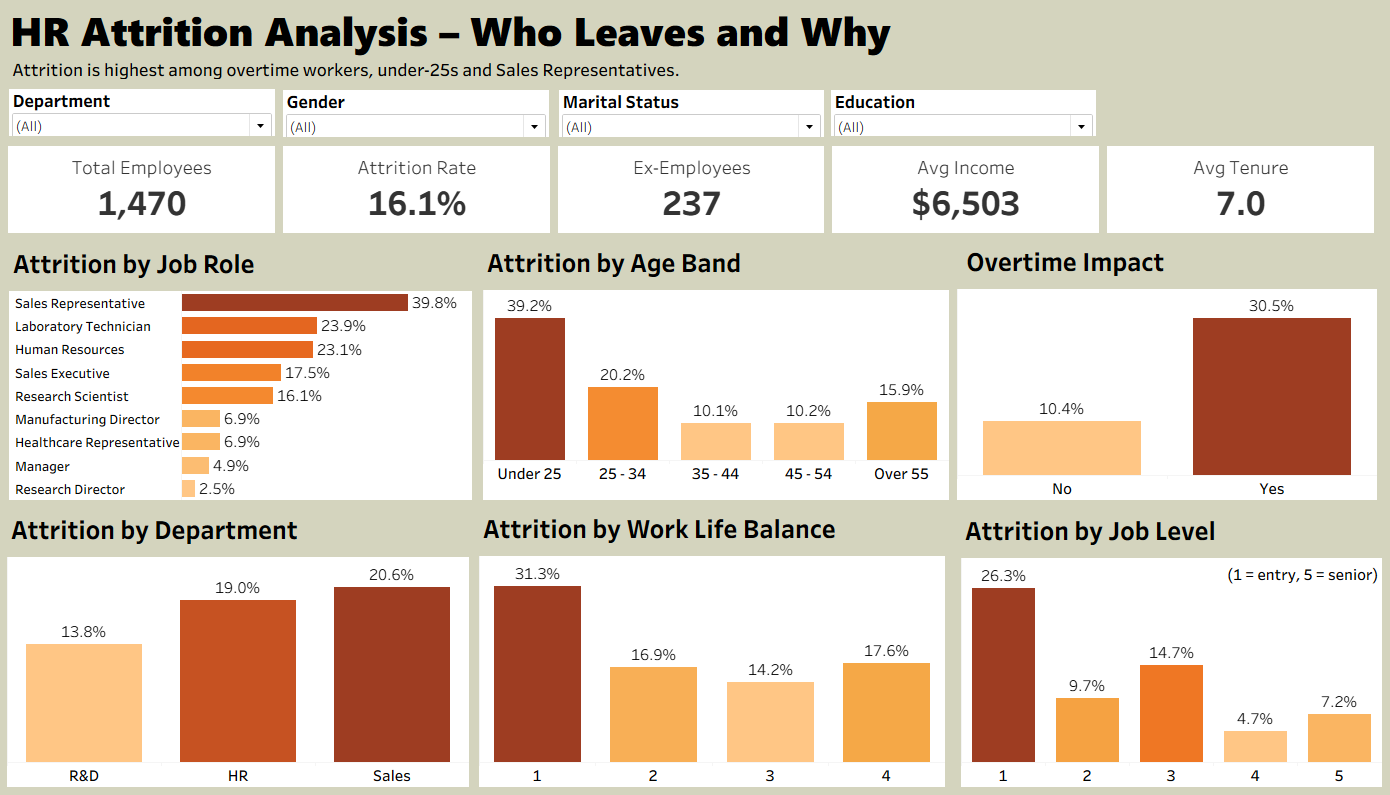

The dashboard page shown, as its layout file describes it:
{"tool":"tableau","page":{"name":"Dashboard 1","canvas":[1400,800],"ordinal":0},"visuals":[{"type":"text","box":[14,6,888,55]},{"type":"text","box":[16,64,736,19]},{"type":"filter","title":"Attrition by Job Role","param":"[federated.171tspu0vqxsfl1d037kr16tp0a4].[none:Department:nk]","box":[16,93.2,266,47.1]},{"type":"filter","title":"Attrition by Job Role","param":"[federated.171tspu0vqxsfl1d037kr16tp0a4].[none:Gender:nk]","box":[290,94.1,266,47.1]},{"type":"filter","title":"Attrition by Job Role","param":"[federated.171tspu0vqxsfl1d037kr16tp0a4].[none:Marital Status:nk]","box":[566,94.1,265,47.1]},{"type":"filter","title":"Attrition by Job Role","param":"[federated.171tspu0vqxsfl1d037kr16tp0a4].[none:Education:nk]","box":[838,94.1,265,46.1]},{"type":"worksheet","title":"kpi 1","mark":"Automatic","box":[11,145.9,274.8,95.1]},{"type":"worksheet","title":"kpi 2","mark":"Automatic","box":[285.8,145.9,274.8,95.1]},{"type":"worksheet","title":"kpi 3","mark":"Automatic","box":[560.6,145.9,274.8,95.1]},{"type":"worksheet","title":"kpi 4","mark":"Automatic","box":[835.4,145.9,274.8,95.1]},{"type":"worksheet","title":"kpi 5","mark":"Automatic","box":[1110.2,145.9,274.8,95.1]},{"type":"worksheet","title":" Overtime Impact ","mark":"Bar","rows":["Calculation_1405507103719424"],"cols":["Over Time"],"box":[964,243.8,420,259.8]},{"type":"worksheet","title":"Attrition by Age Band ","mark":"Bar","rows":["Calculation_1405507103719424"],"cols":["CF_age band"],"box":[490,244.7,466,258.8]},{"type":"worksheet","title":"Attrition by Job Role","mark":"Bar","rows":["Job Role"],"cols":["Calculation_1405507103719424"],"box":[16,245.6,463,257.9]},{"type":"worksheet","title":"Attrition by Work Life Balance","mark":"Bar","rows":["Calculation_1405507103719424"],"cols":["Work Life Balance"],"box":[486,511,466,280]},{"type":"worksheet","title":"Attrition by Department","mark":"Bar","rows":["Calculation_1405507103719424"],"cols":["Department"],"box":[14,512,462,279]},{"type":"worksheet","title":"Attrition by Job Level","mark":"Bar","rows":["Calculation_1405507103719424"],"cols":["Job Level"],"box":[968,513,421,278]},{"type":"text","box":[1231,563,158,30]}]}

Visuals, with their boxes in screenshot pixels (x1, y1, x2, y2), scaled from the page's 1400x800 canvas onto the 1390x795 screenshot:
text: [14, 6, 896, 61]
text: [16, 64, 747, 82]
"Attrition by Job Role" filter: [16, 93, 280, 139]
"Attrition by Job Role" filter: [288, 94, 552, 140]
"Attrition by Job Role" filter: [562, 94, 825, 140]
"Attrition by Job Role" filter: [832, 94, 1095, 139]
"kpi 1" worksheet: [11, 145, 284, 239]
"kpi 2" worksheet: [284, 145, 557, 239]
"kpi 3" worksheet: [557, 145, 829, 239]
"kpi 4" worksheet: [829, 145, 1102, 239]
"kpi 5" worksheet: [1102, 145, 1375, 239]
" Overtime Impact " worksheet (Bar marks): [957, 242, 1374, 500]
"Attrition by Age Band " worksheet (Bar marks): [486, 243, 949, 500]
"Attrition by Job Role" worksheet (Bar marks): [16, 244, 476, 500]
"Attrition by Work Life Balance" worksheet (Bar marks): [483, 508, 945, 786]
"Attrition by Department" worksheet (Bar marks): [14, 509, 473, 786]
"Attrition by Job Level" worksheet (Bar marks): [961, 510, 1379, 786]
text: [1222, 559, 1379, 589]
